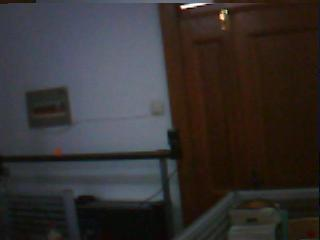oball: (54, 146, 62, 154)
